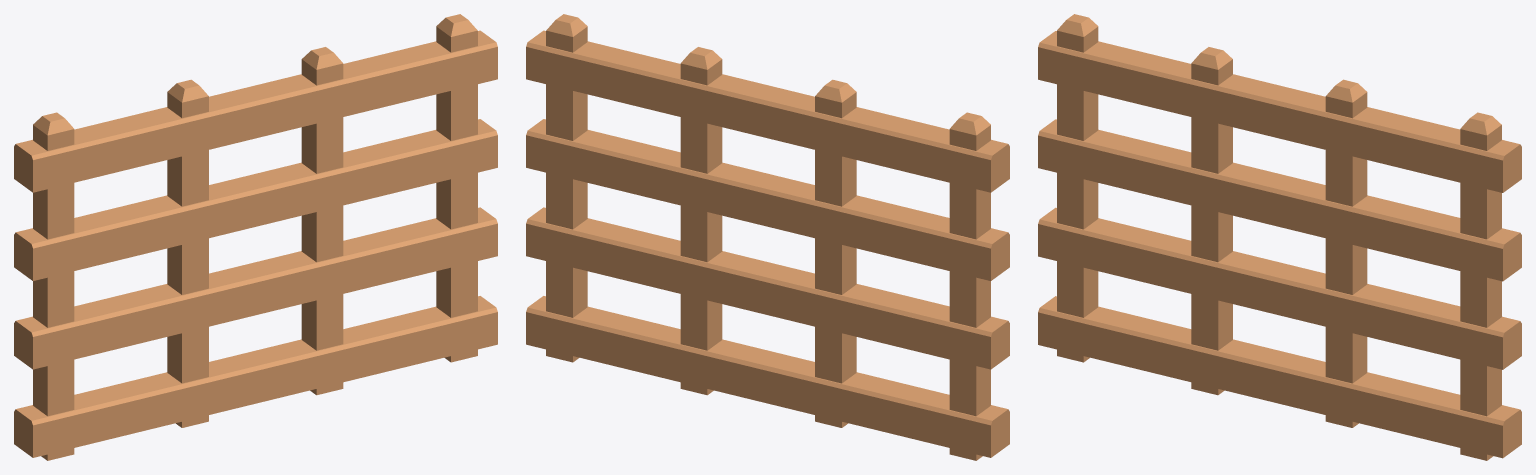
The model's file is Fence_01.fbx.
3 views of the same model, side by side, from view 1: azimuth 30°, elevation 25°; view 2: azimuth 150°, elevation 25°; view 3: azimuth 330°, elevation 25° (orthographic).
Parts seen in each view (by area): view 1: Cube.004; view 2: Cube.004; view 3: Cube.004.
Boxes of the visible parts, box(x1,y1,x2,y2) form: Cube.004: box(14, 14, 497, 460); Cube.004: box(526, 14, 1009, 460); Cube.004: box(1038, 14, 1521, 460).
Bounding box in the file's own units: 2.2 × 1.52 × 0.1552.
